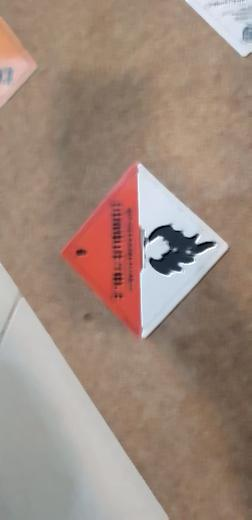spontaneously-combustible: (57, 159, 231, 342)
